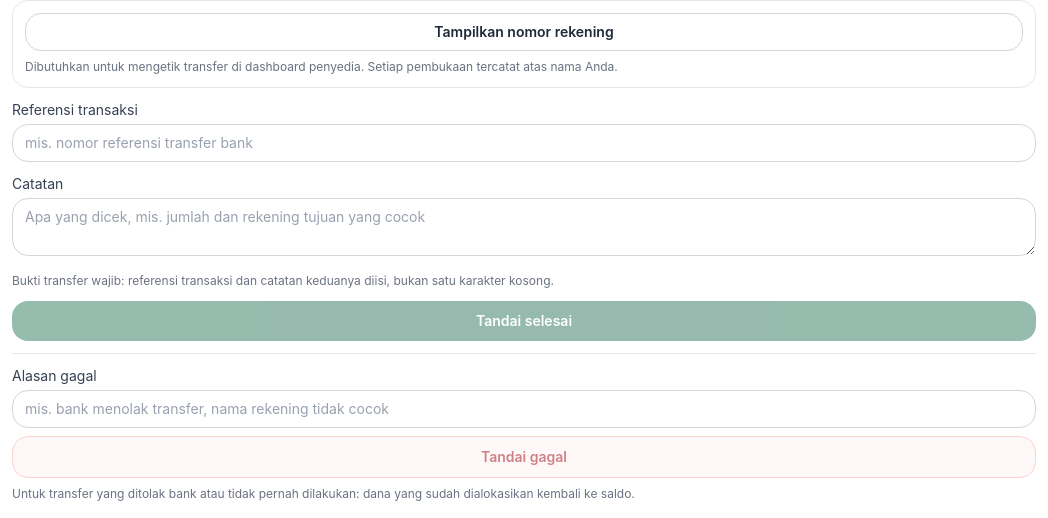
Scenario: AdminPayoutActionForm -- completing an APPROVED Payout (ticket 13: structured proof) › keeps the button disabled until both the reference and the note are filled in
Expected: the button "Tandai selesai" is disabled, [12,301,1036,341]
Type "TRX-001" into the field labelled "Referensi transaksi". click: (524, 143)
box: [12,124,1036,162]
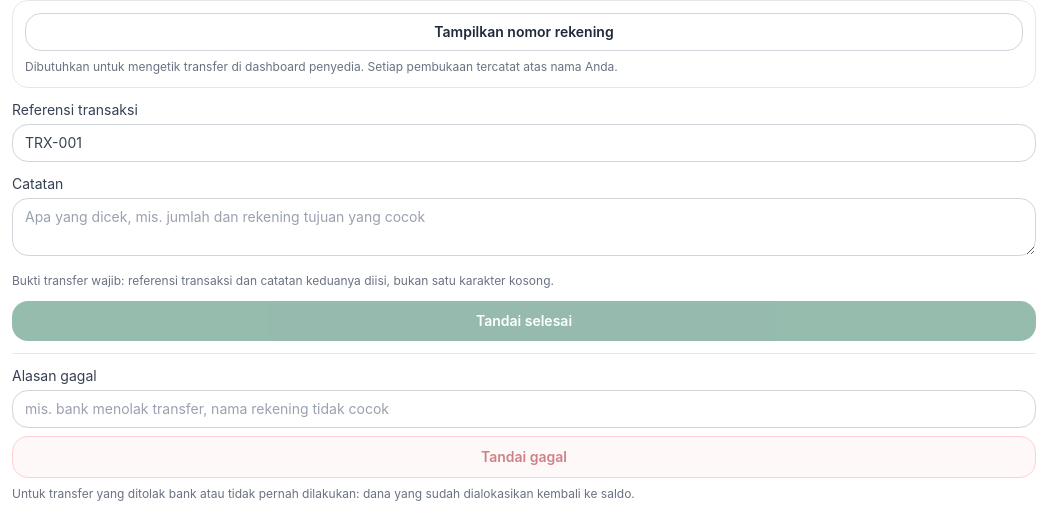
Expected: the button "Tandai selesai" is disabled, [12,301,1036,341]
Type "Ditransfer via BCA" into the text box labelled "Catatan". click: (524, 227)
box: [12,198,1036,256]
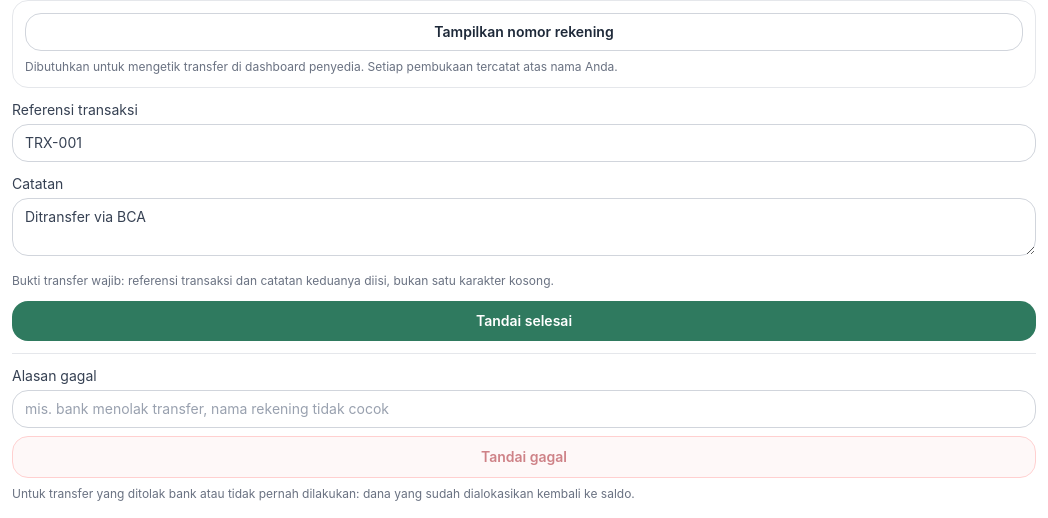
Expected: the button "Tandai selesai" is enabled, [12,301,1036,341]
